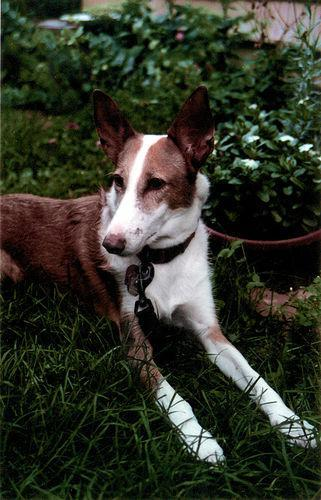Ibizan_hound: (0, 86, 319, 471)
